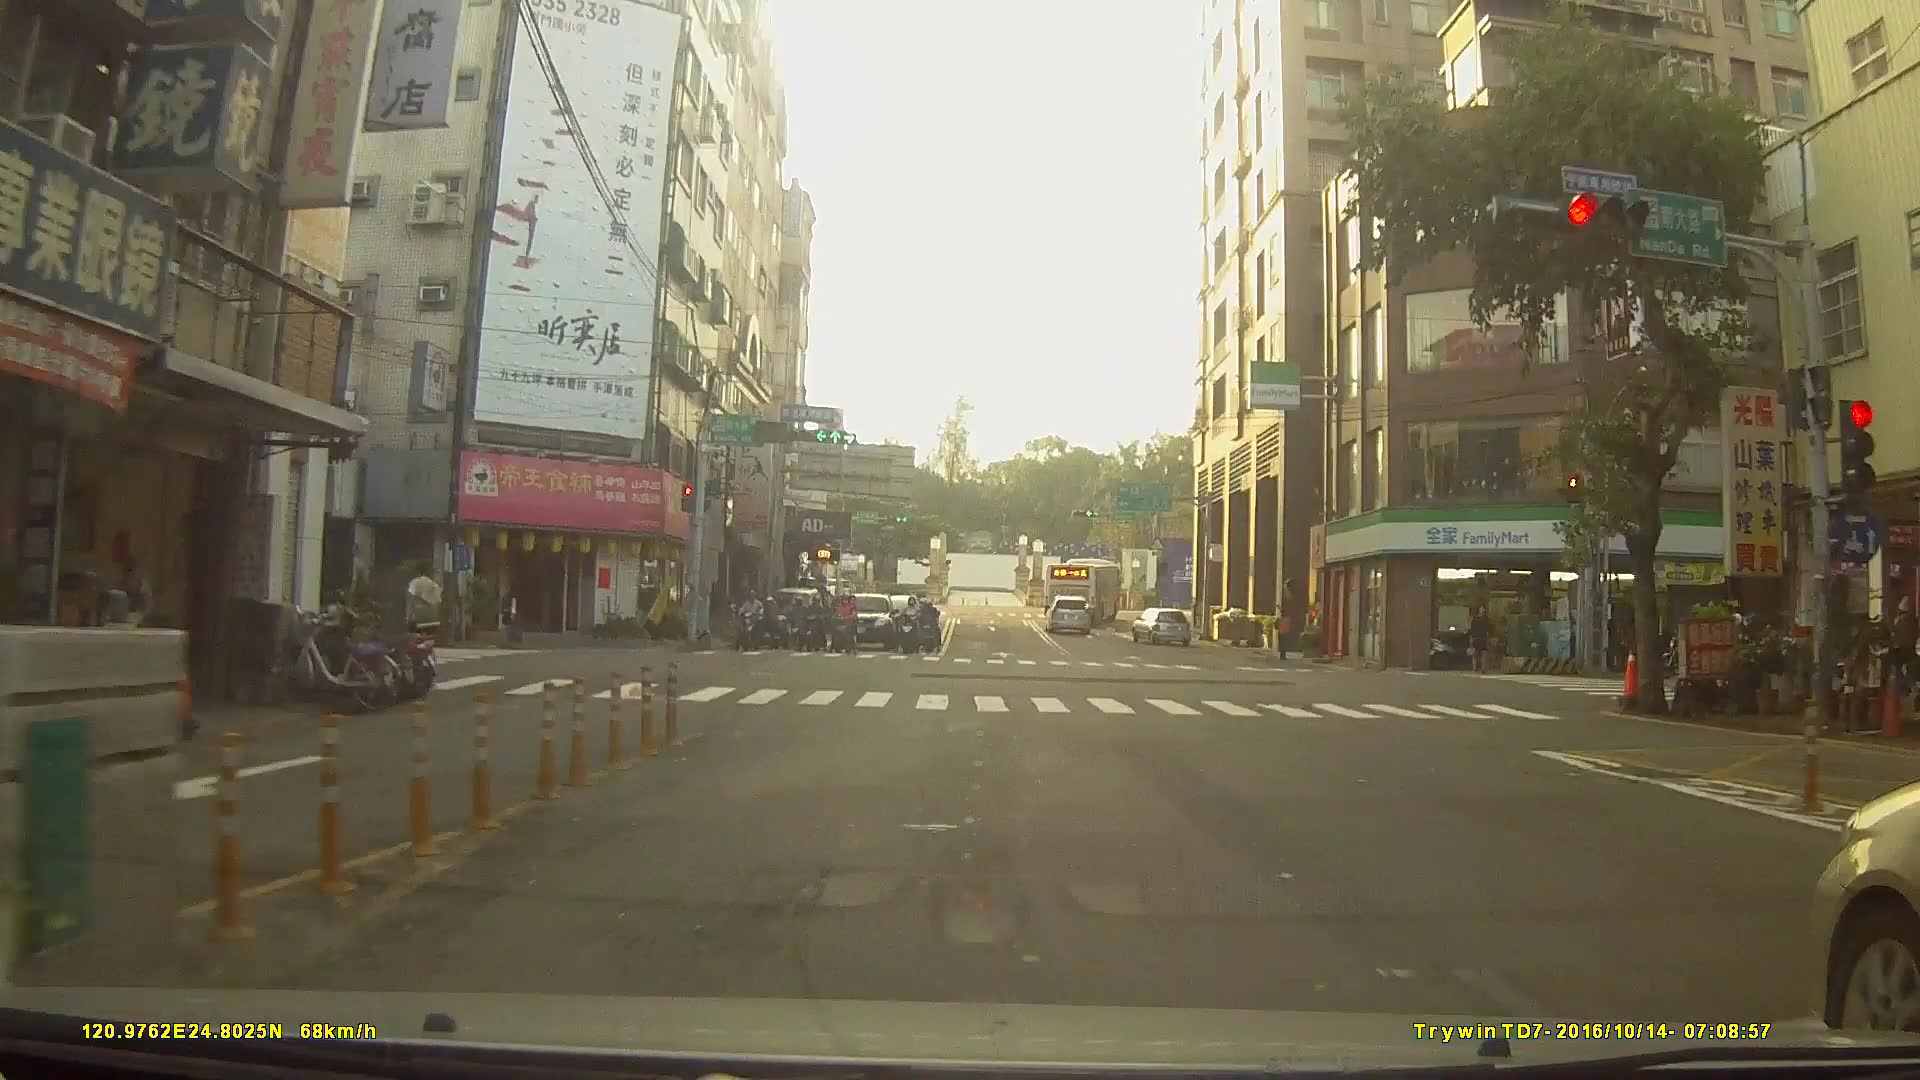pedestrian: (402, 560, 448, 672), (1469, 602, 1494, 676), (501, 590, 524, 650), (1275, 607, 1295, 663)
rider: (827, 597, 858, 662), (733, 592, 765, 657), (769, 593, 796, 649), (804, 596, 830, 655), (897, 593, 921, 656), (919, 604, 942, 661)
vehicle: (1042, 554, 1122, 618), (832, 589, 897, 653), (1129, 604, 1191, 645), (1042, 593, 1093, 633)
